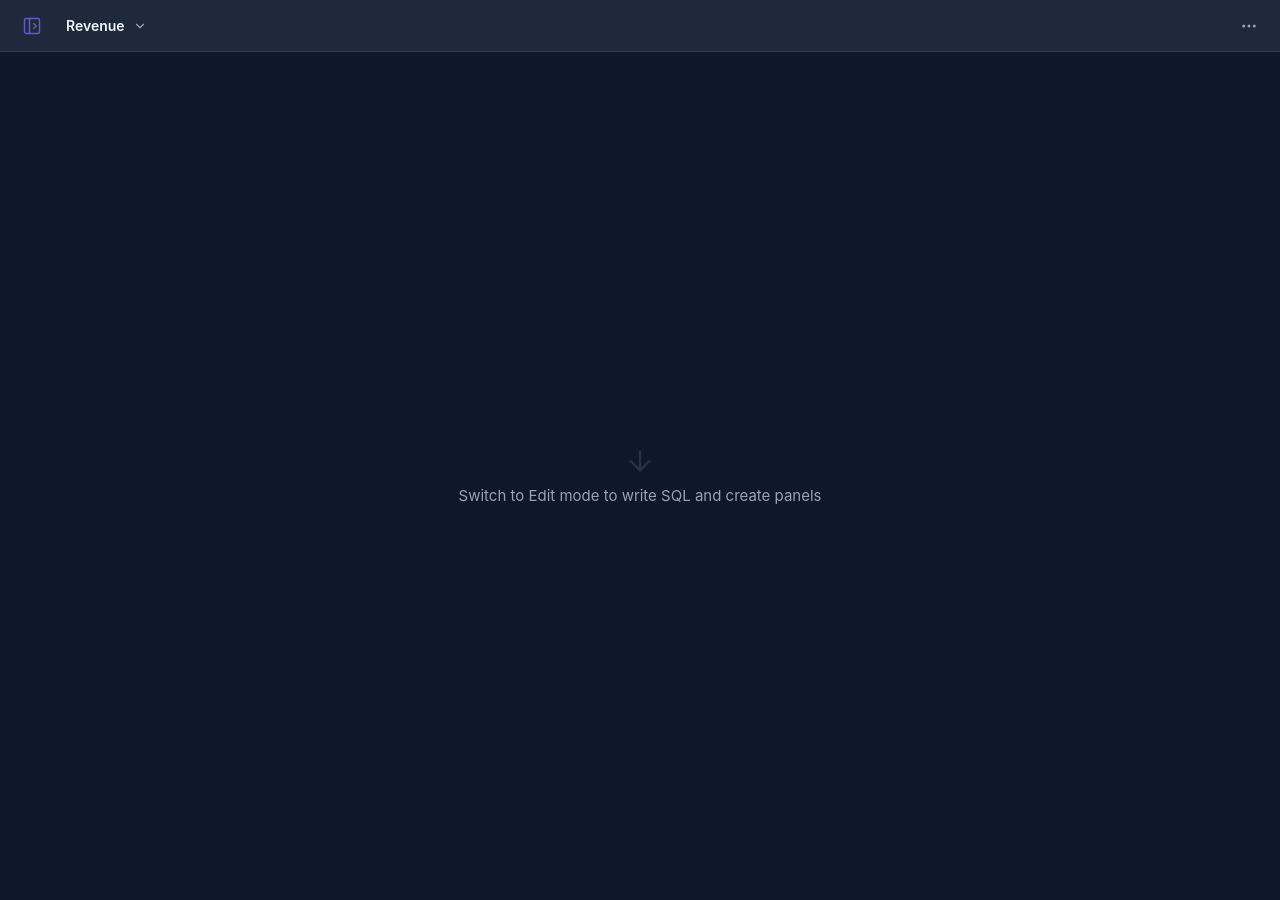
Test: minimal reader Preview › opens dashboard search from the title and keyboard without author commands
Check: the button named "Show navigation" is shown, box [14,8,50,44]
Press k in the button with aria-label "Switch dashboard: Revenue", box [58,9,155,42]
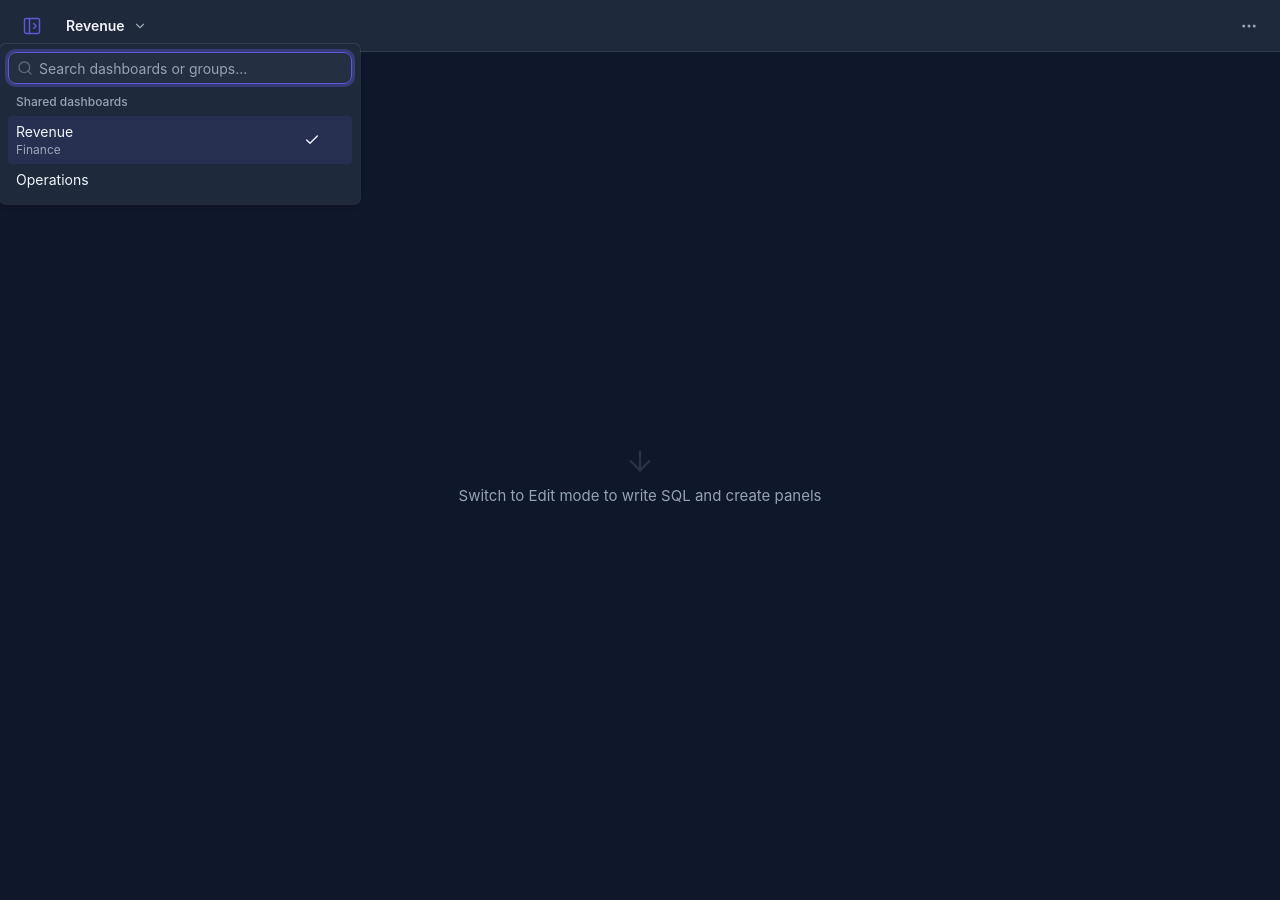
Type "Operations" into the dropdown named "Search shared dashboards" at x=192, y=68, box [33,53,351,83]
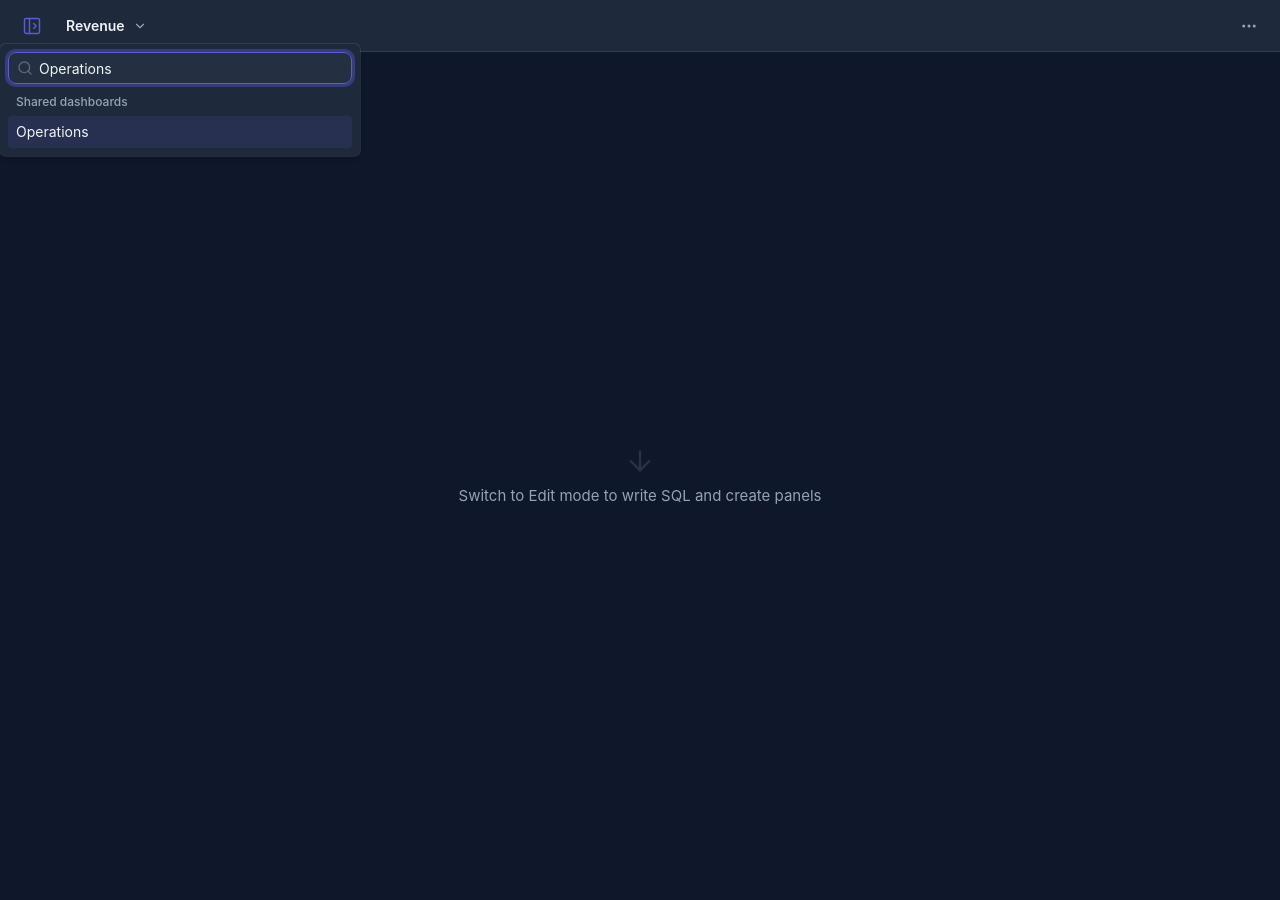
Press ArrowDown in the dropdown named "Search shared dashboards", box [33,53,351,83]
Press Enter in the dropdown named "Search shared dashboards", box [33,53,351,83]
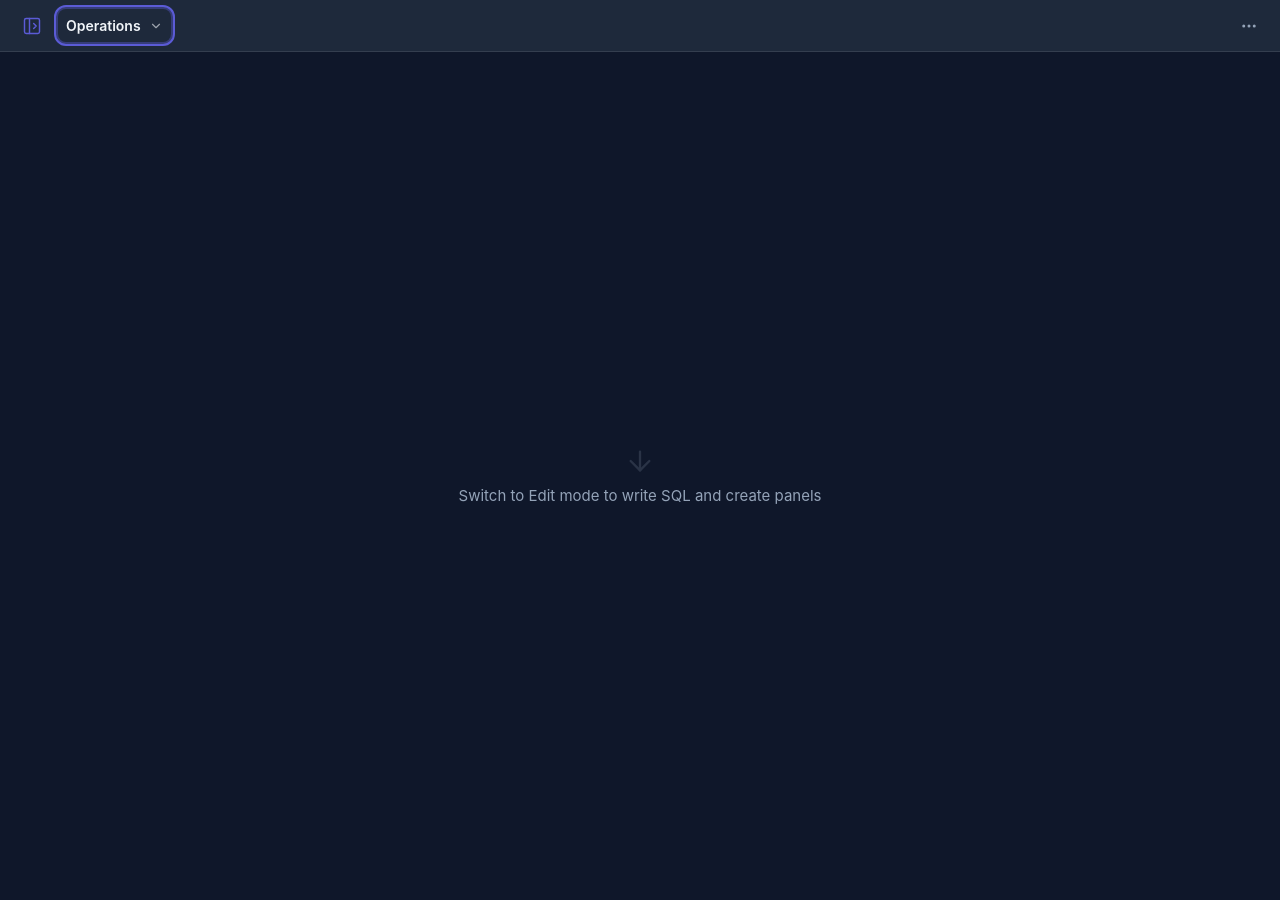
Check: the button with aria-label "Switch dashboard: Operations" is shown, box [58,9,171,42]
